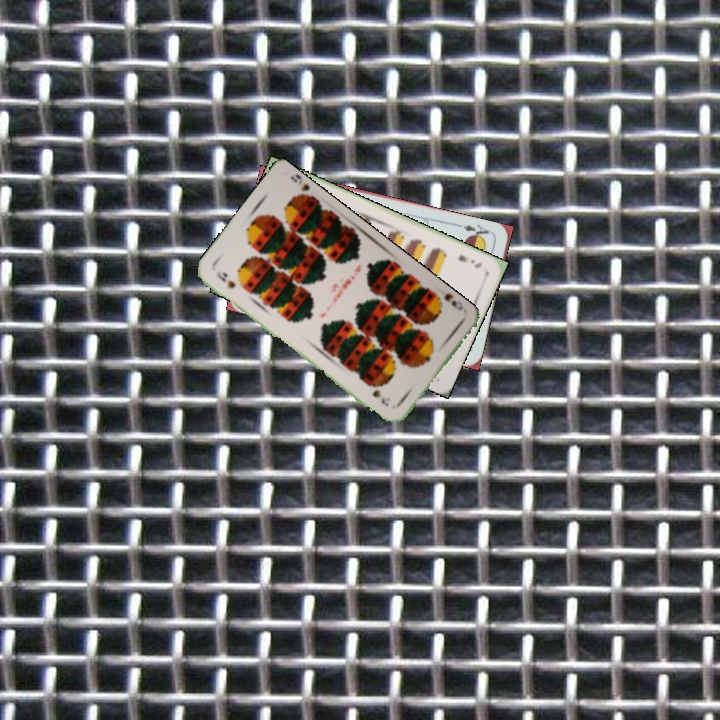E7: (454, 250, 484, 270)
EA: (455, 220, 495, 243)
S9: (429, 290, 466, 313), (212, 267, 238, 291)
